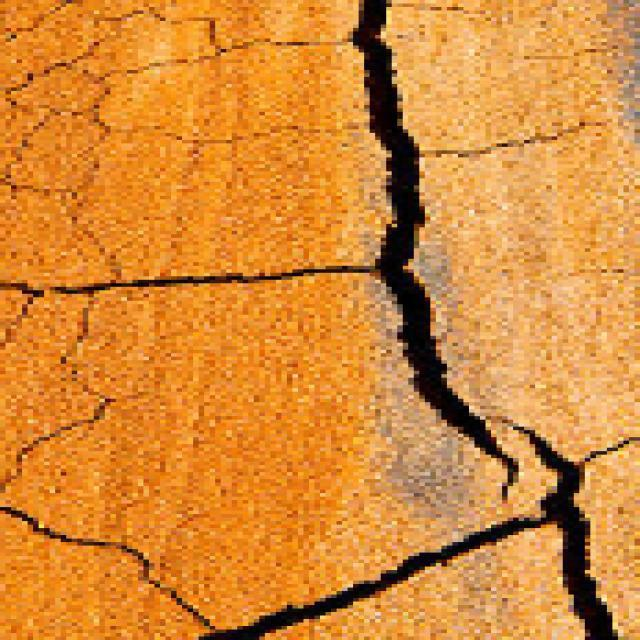network cracks: (0, 0, 639, 639), (0, 366, 117, 497)
